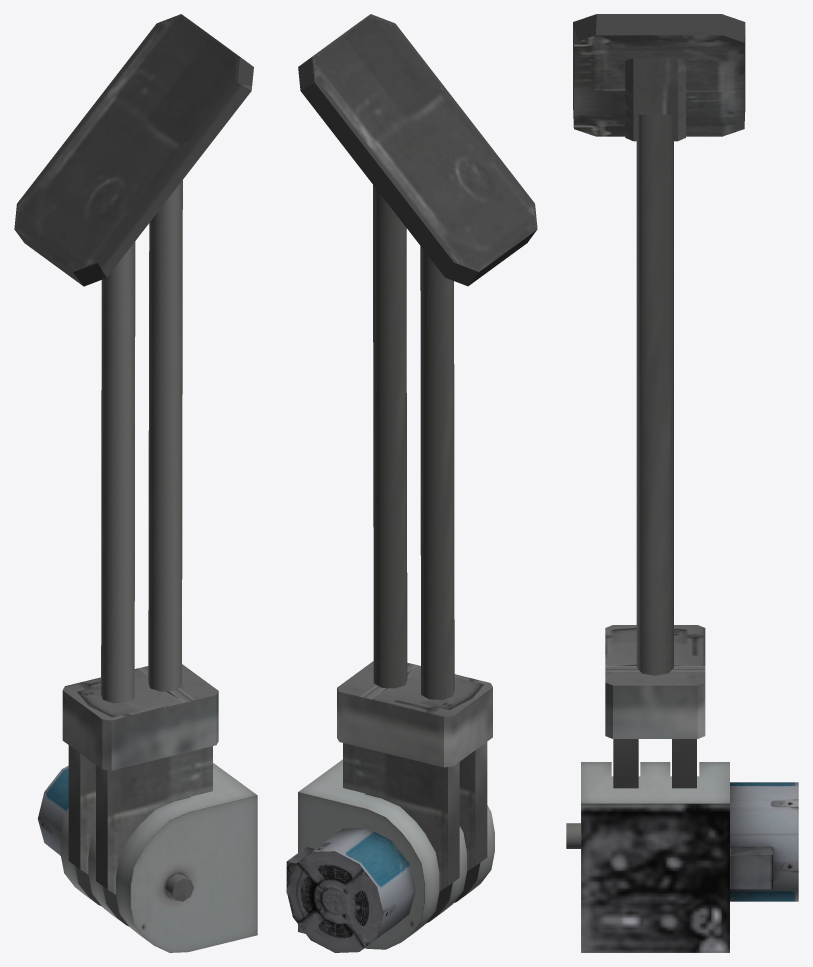
3 views of the same model, side by side, from view 1: azimuth 30°, elevation 25°; view 2: azimuth 150°, elevation 25°; view 3: azimuth 270°, elevation 25° (orthographic). The views are drawn at different scales.
Visible parts, largest first — view 1: obj_leg, obj_anchor; view 2: obj_leg, obj_anchor; view 3: obj_leg, obj_anchor.
Part boxes in pixels (bbox=[...]): obj_leg: bbox=[14, 14, 253, 894]; obj_anchor: bbox=[38, 763, 257, 952]; obj_leg: bbox=[298, 14, 537, 891]; obj_anchor: bbox=[286, 759, 494, 952]; obj_leg: bbox=[573, 14, 745, 788]; obj_anchor: bbox=[566, 762, 798, 952].
Size of what is drawn, in the model's own units: 0.3033 by 1.4 by 0.3167.
